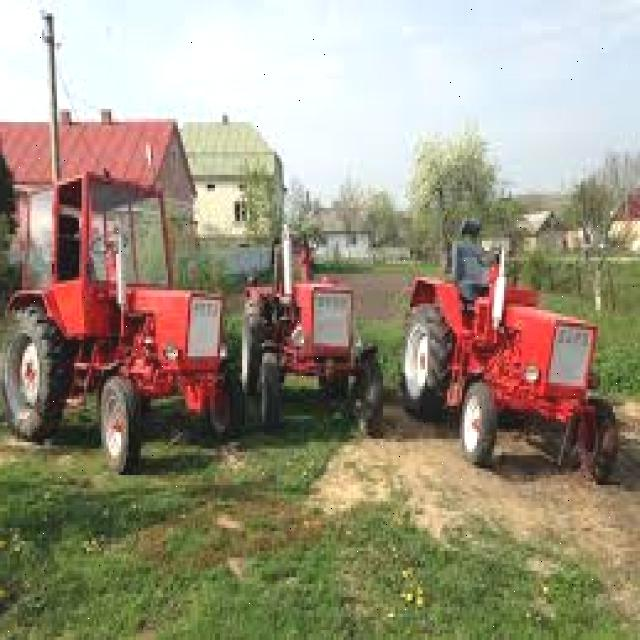Tratores - v5 YOLO V8L 2024-11-13: (3, 170, 234, 473), (404, 274, 618, 486), (240, 280, 388, 438)
